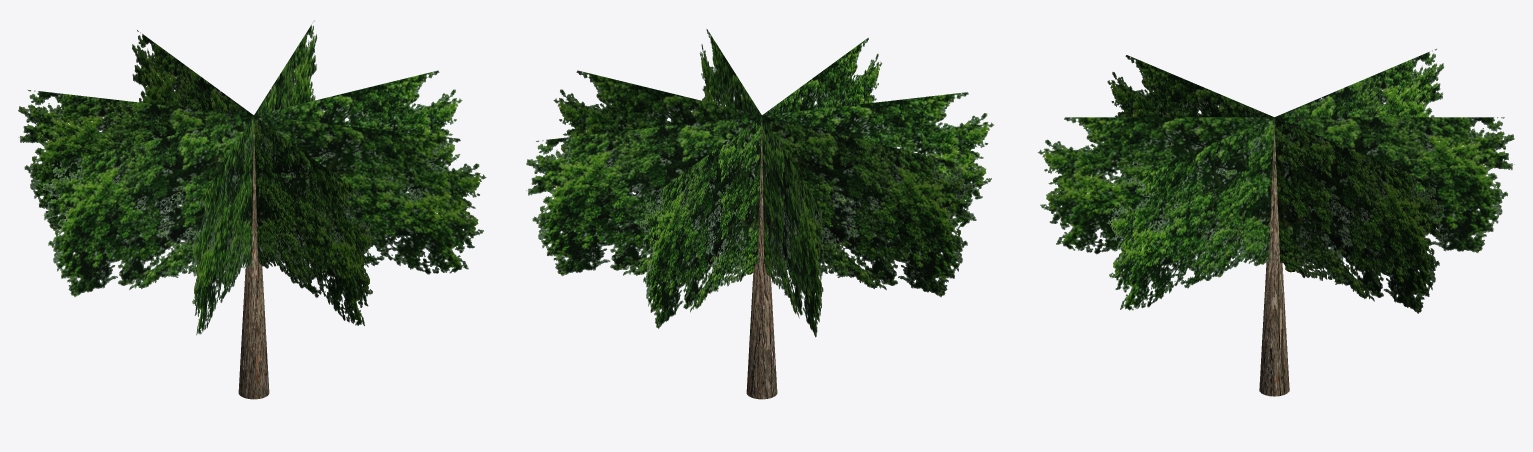
Rendered from tree2.FBX.
The picture shows the model from 3 angles, left to right: view 1: azimuth 30°, elevation 25°; view 2: azimuth 150°, elevation 25°; view 3: azimuth 270°, elevation 25°; orthographic projection.
Parts seen in each view (by area): view 1: tree2; view 2: tree2; view 3: tree2.
Boxes of the visible parts, x1=… form: tree2: x1=18, y1=20, x2=486, y2=399; tree2: x1=526, y1=29, x2=994, y2=399; tree2: x1=1037, y1=48, x2=1514, y2=396.
Size of the model in its own units: 160 by 98.57 by 160.
